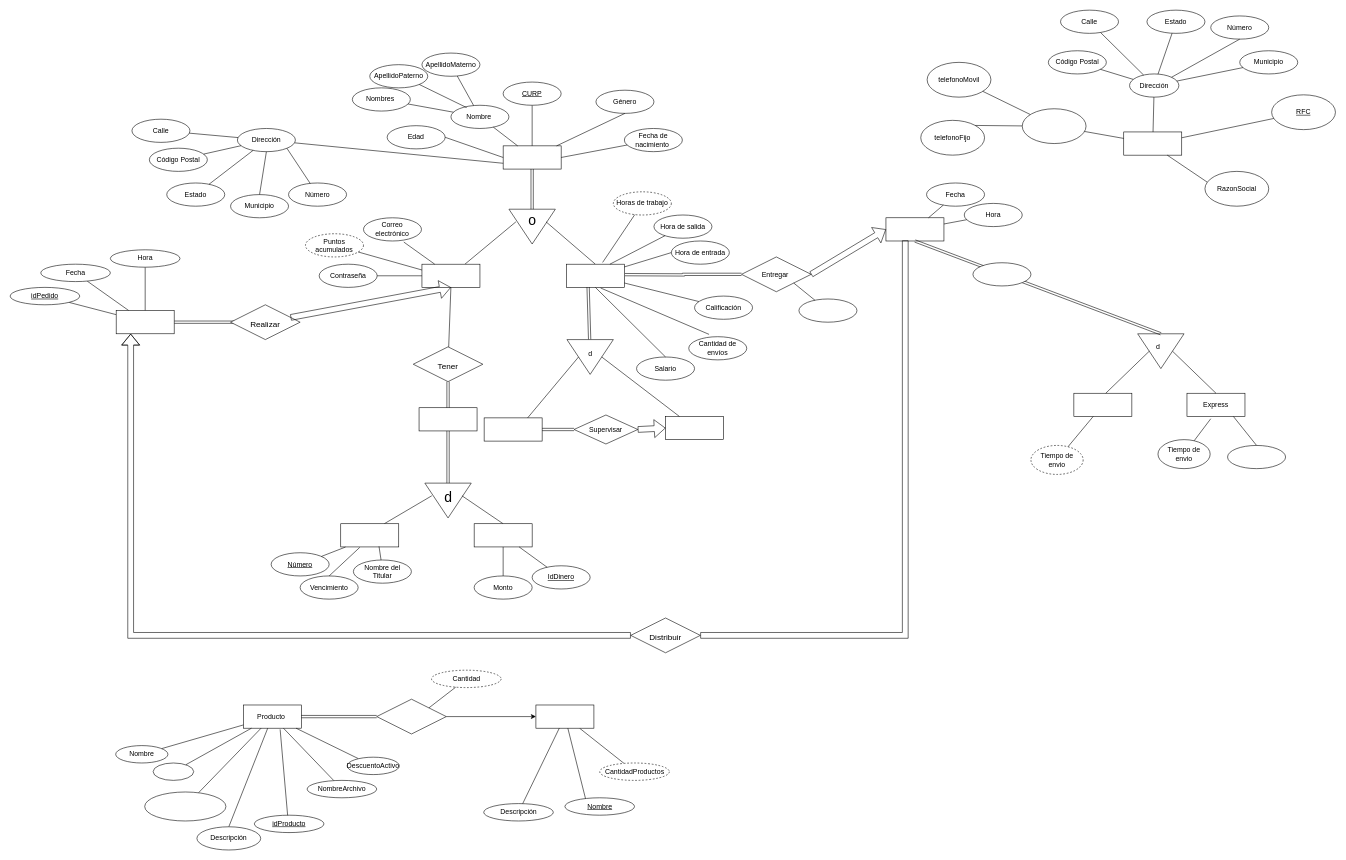
Image size: 1346x860. Some labels were removed from this diagram. Each missing label, with the centre of its shape:
Categoría: point (564, 716)
Cliente: point (450, 275)
Costo extra: point (1256, 457)
Efectivo: point (503, 535)
Envío: point (914, 229)
Estatus: point (827, 310)
Id de Envío: point (1001, 274)
Método de pago: point (447, 419)
Normal: point (1102, 404)
Pedido: point (145, 322)
Persona: point (532, 157)
Pertenecer: point (411, 716)
Precio: point (173, 771)
Proveedor: point (1152, 143)
Repartidor: point (595, 275)
Repartidor Normal: point (694, 428)
Supervisor directo: point (513, 429)
Tarjeta: point (369, 535)
telefono: point (1054, 126)
UnidadesDisponibles: point (185, 806)
